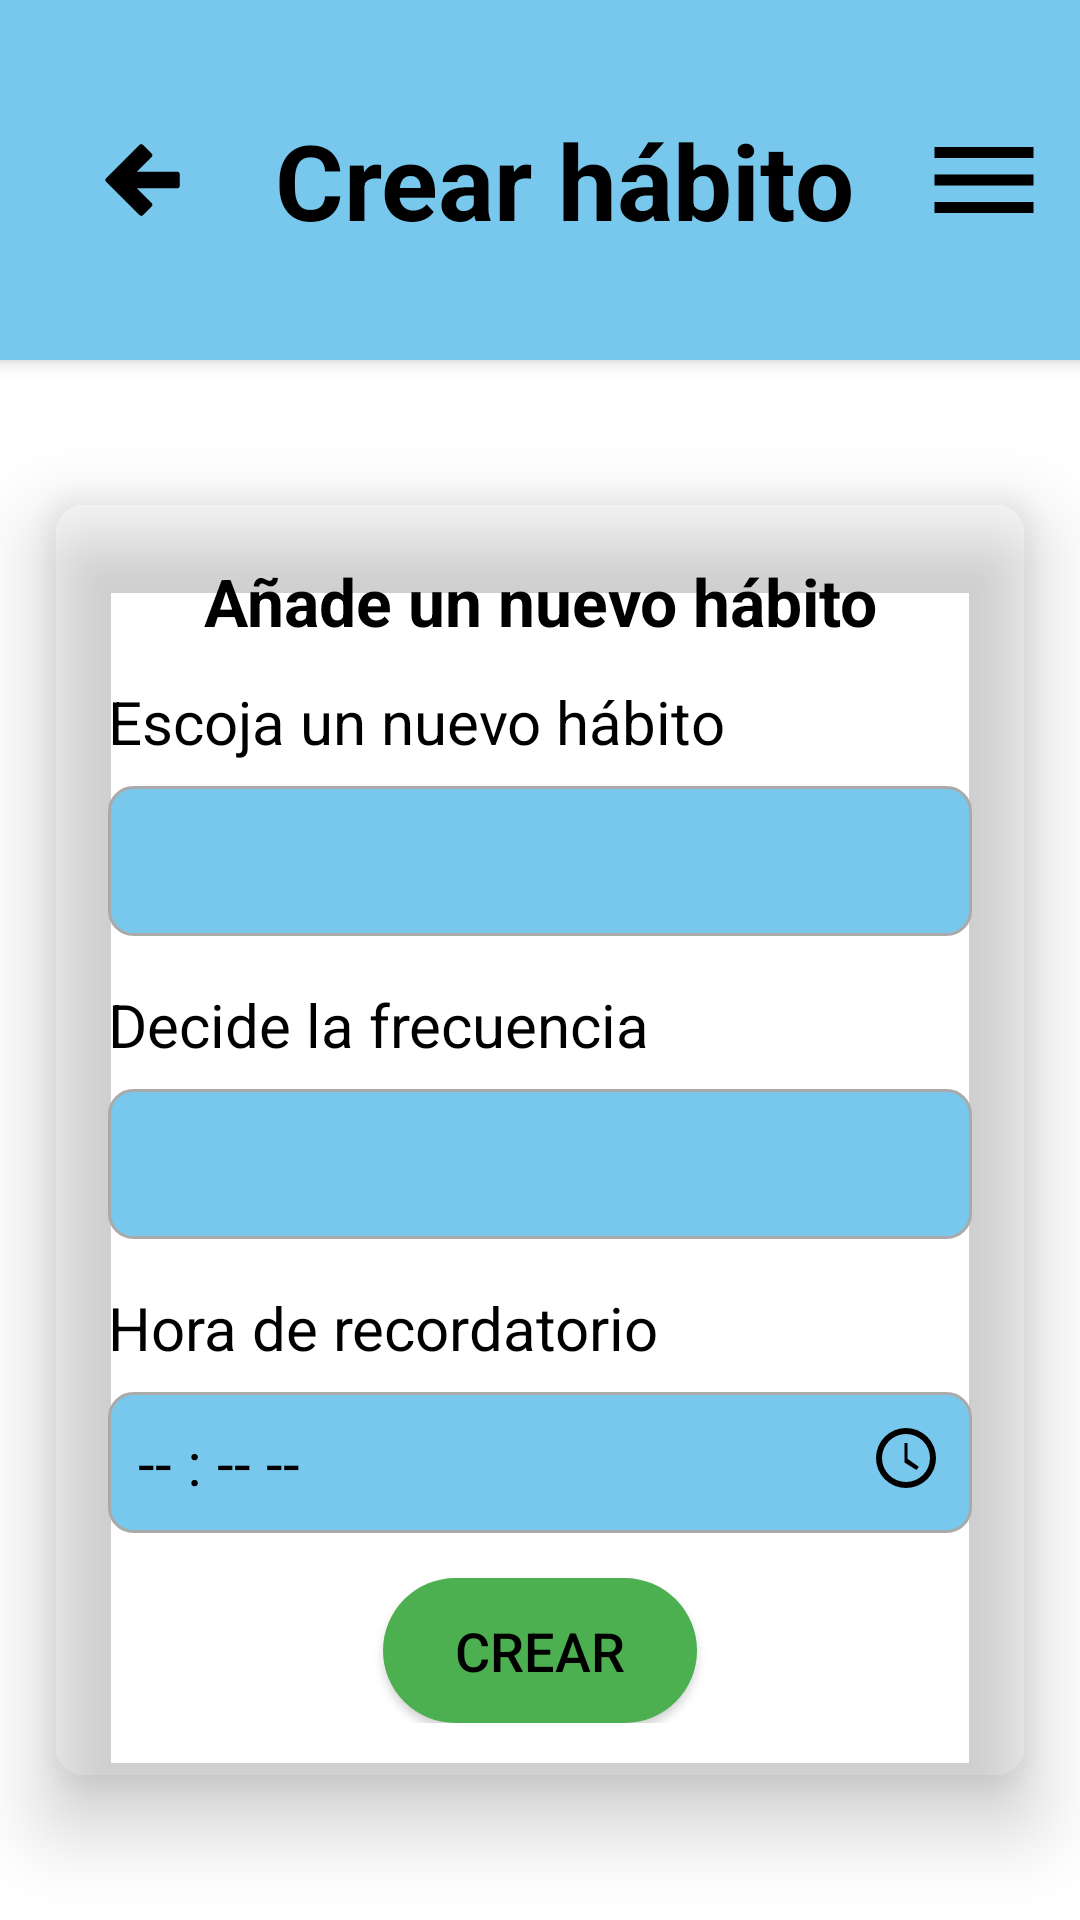

Screen size 1080*1920. Icon name, then its center in pixels as (x,y):
Menú: (984,180)
Seleccionar hora: (906,1458)
Volver: (142,180)
